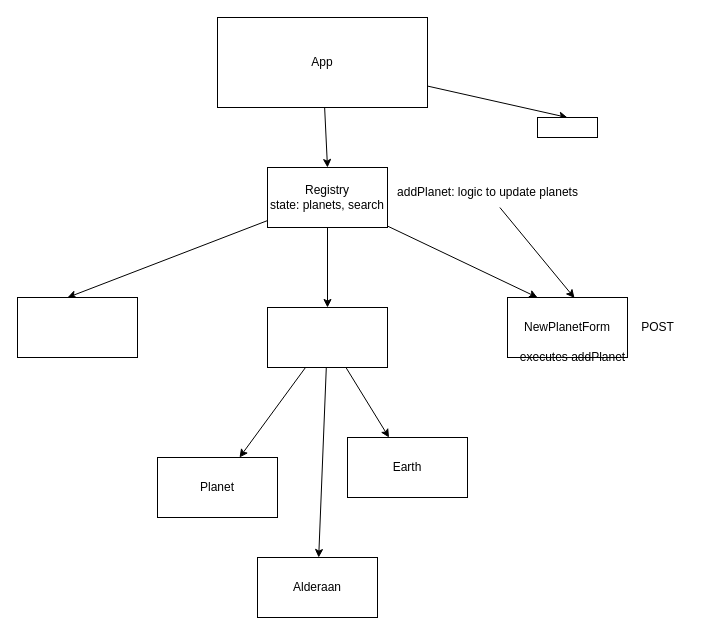
This 705x635 diagram has some shape labels left out. The centre of each missing label's shape, as x and y in pixels:
"Header" belongs at pixel 567 127.
"PlanetList" belongs at pixel 327 337.
"Search" belongs at pixel 77 327.
